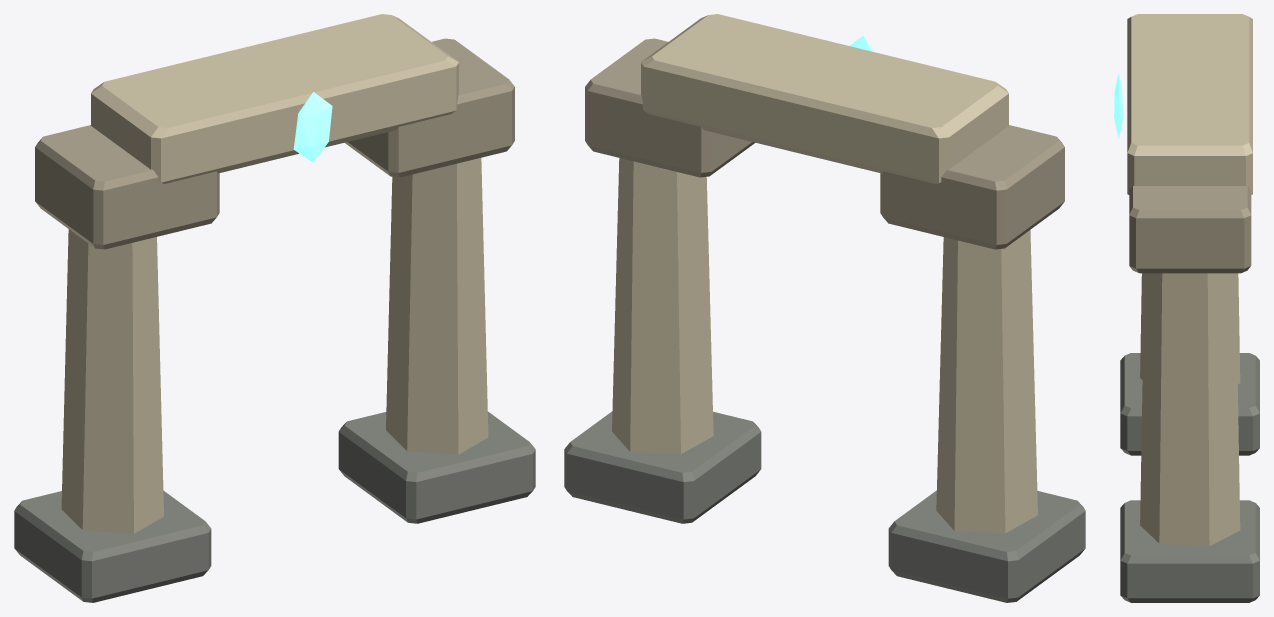
Rendered from SM_RUI_BLD_001_AncientGate.glb.
3 views of the same model, side by side, from view 1: azimuth 30°, elevation 25°; view 2: azimuth 150°, elevation 25°; view 3: azimuth 270°, elevation 25° (orthographic). The views are drawn at different scales.
Parts seen in each view (by area): view 1: SM_RUI_BLD_001_AncientGate; view 2: SM_RUI_BLD_001_AncientGate; view 3: SM_RUI_BLD_001_AncientGate.
Part boxes in pixels (bbox=[...]): SM_RUI_BLD_001_AncientGate: bbox=[14, 14, 535, 602]; SM_RUI_BLD_001_AncientGate: bbox=[564, 14, 1085, 602]; SM_RUI_BLD_001_AncientGate: bbox=[1114, 14, 1259, 602].
Bounding box in the file's own units: 2.8 × 2.71 × 0.8367.
